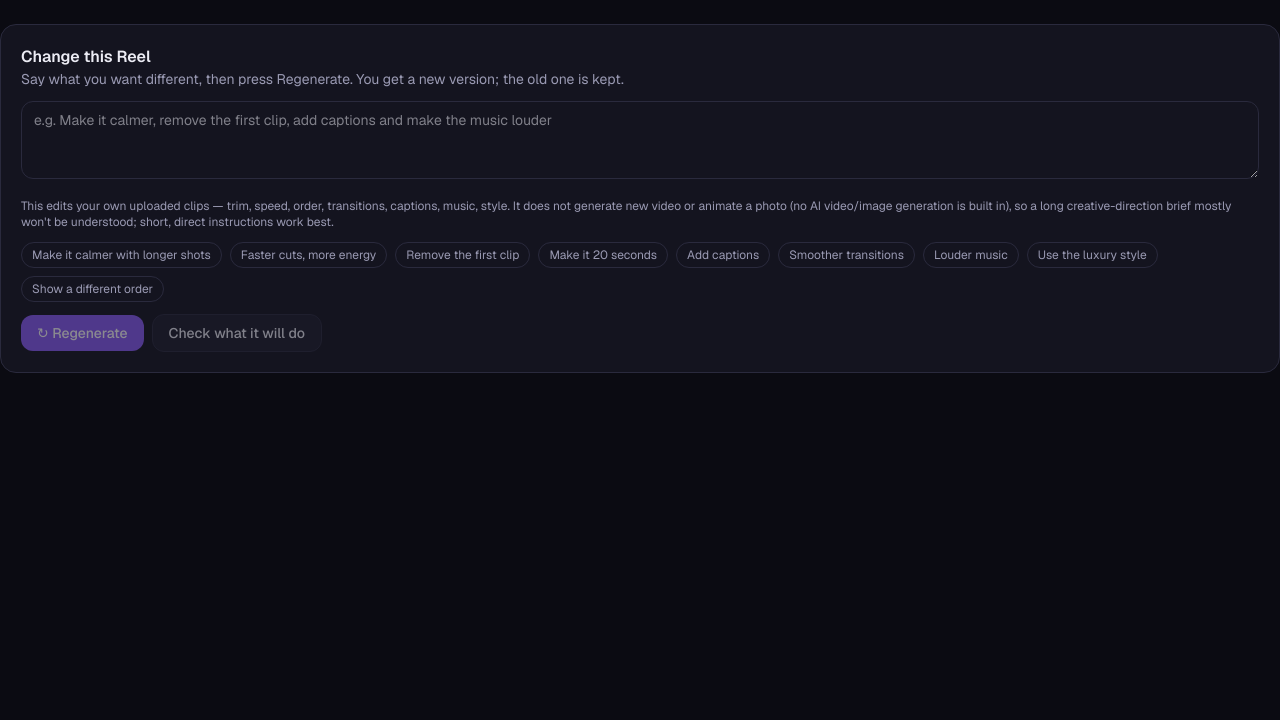
Test: ReviseBox (change a Reel with words) › is honest about what it did not understand and about rebuild warnings
The width and height of the screenshot is (1280, 720).
Type "make it dreamy" into the text box named "What should change?" at (640, 140), box [21, 101, 1259, 179]
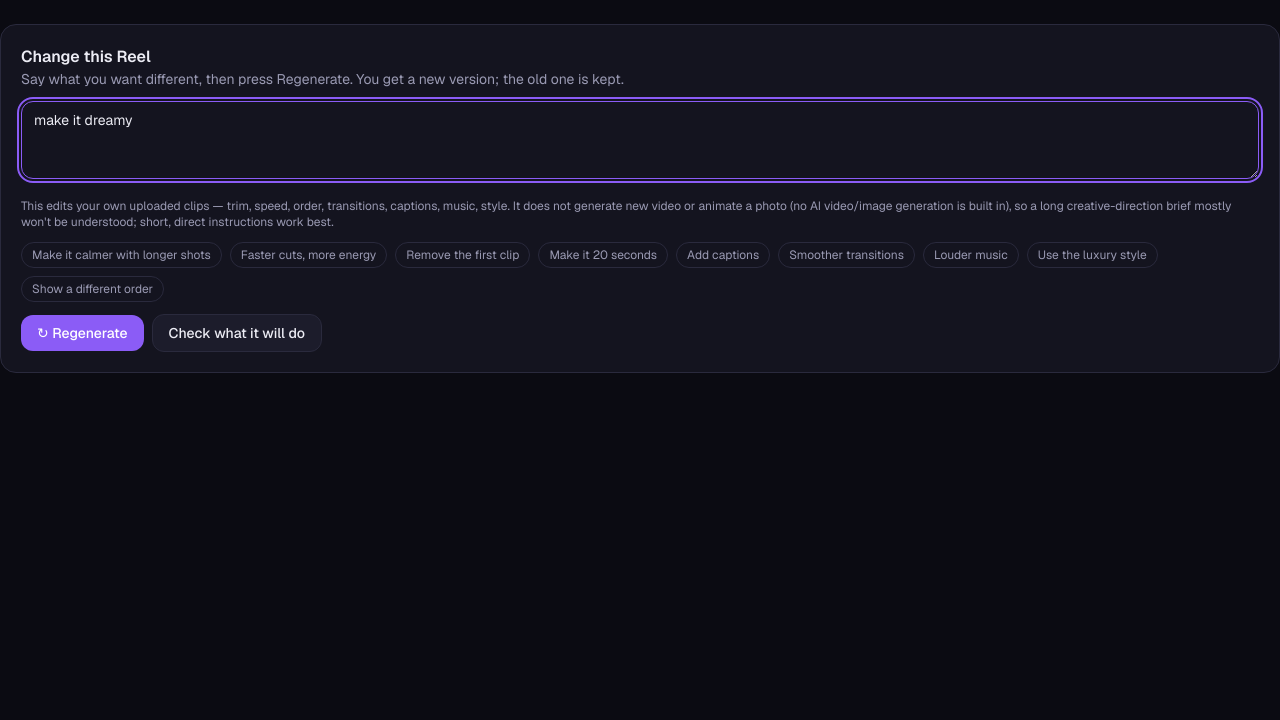
Click the button "↻ Regenerate" at (82, 333), box [21, 315, 144, 351]
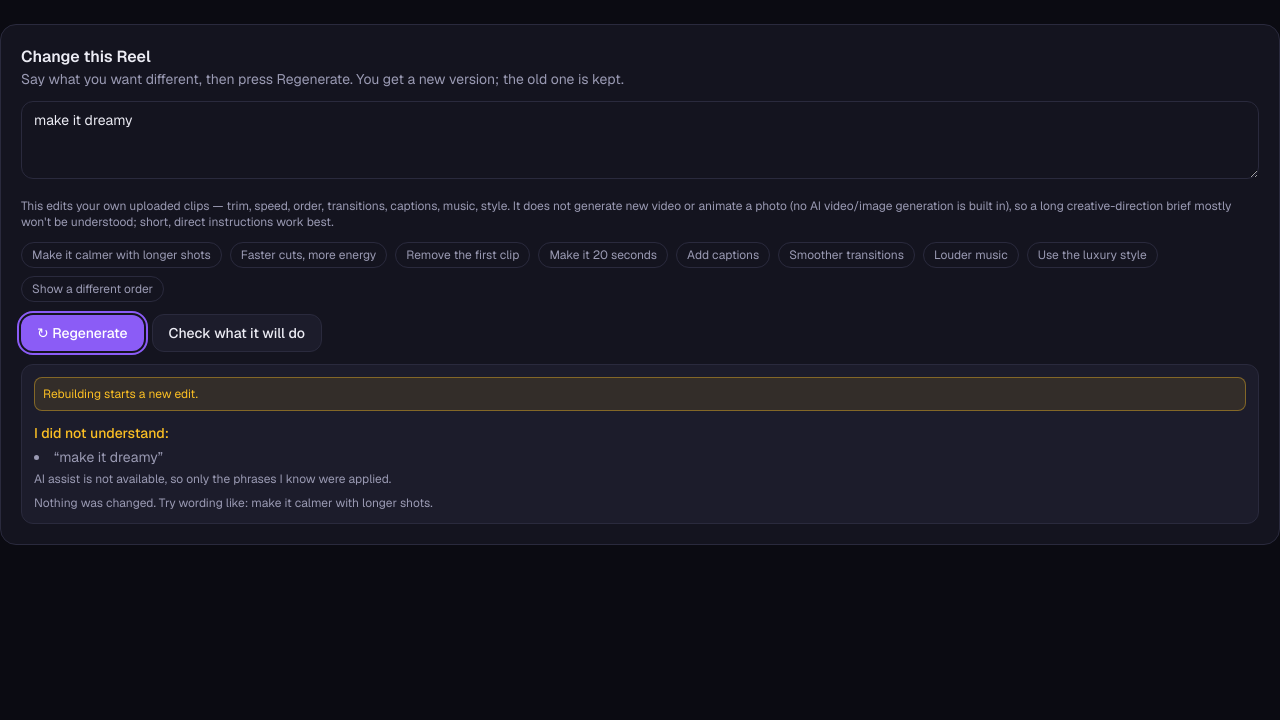
Expected: the list item shows "make it dreamy", [59, 448, 158, 466]
Expected: the text "only the phrases I know" is shown, [34, 471, 391, 487]
Expected: the text "Nothing was changed" is shown, [34, 495, 251, 511]
